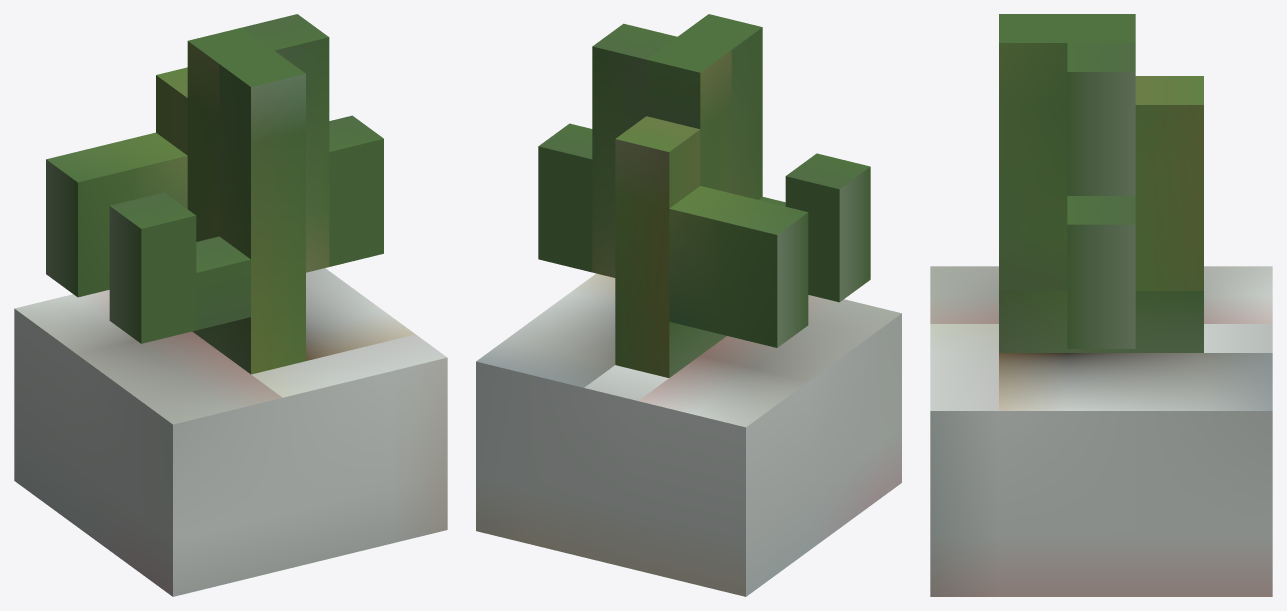
The model's file is PlantCactusSmallDarkGreen_A_02.obj.
3 renders of one model, left to right at view 1: azimuth 30°, elevation 25°; view 2: azimuth 150°, elevation 25°; view 3: azimuth 270°, elevation 25°, orthographic. The views are drawn at different scales.
Parts seen in each view (by area): view 1: PlantCactusSmallDarkGreen_A_02; view 2: PlantCactusSmallDarkGreen_A_02; view 3: PlantCactusSmallDarkGreen_A_02.
Boxes of the visible parts, box(x1,y1,x2,y2) form: PlantCactusSmallDarkGreen_A_02: box(14, 14, 447, 596); PlantCactusSmallDarkGreen_A_02: box(476, 14, 901, 596); PlantCactusSmallDarkGreen_A_02: box(930, 14, 1272, 596).
Bounding box in the file's own units: 0.25 × 0.4 × 0.25.
